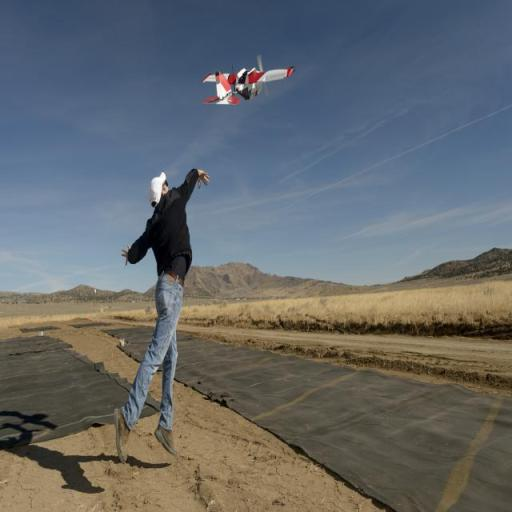uav: (198, 54, 298, 124)
